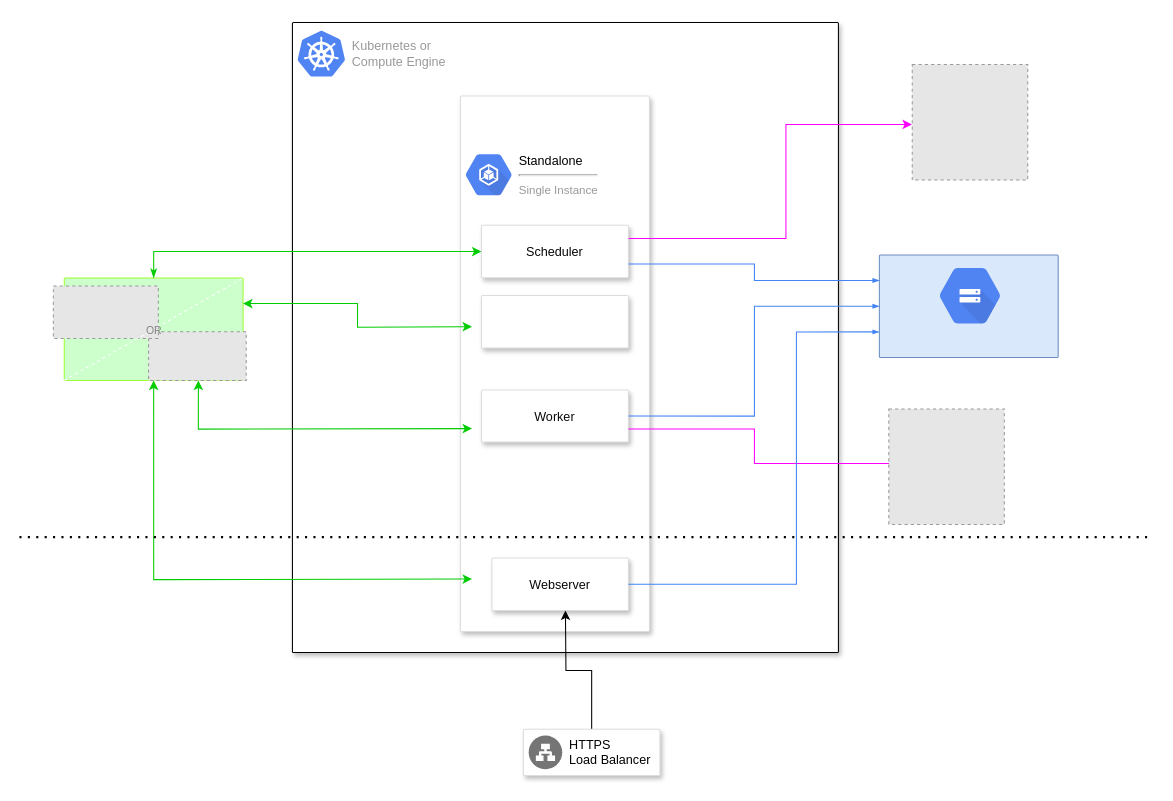
The diagram is 1173 pixels wide and 801 high, and some of its shapes have lost their labels. Grey dashed boxes stand in for pictures. Each missing label, with the centre of its shape:
"Executor" goes at point (555, 322).
"Internal Storage" goes at point (969, 295).
